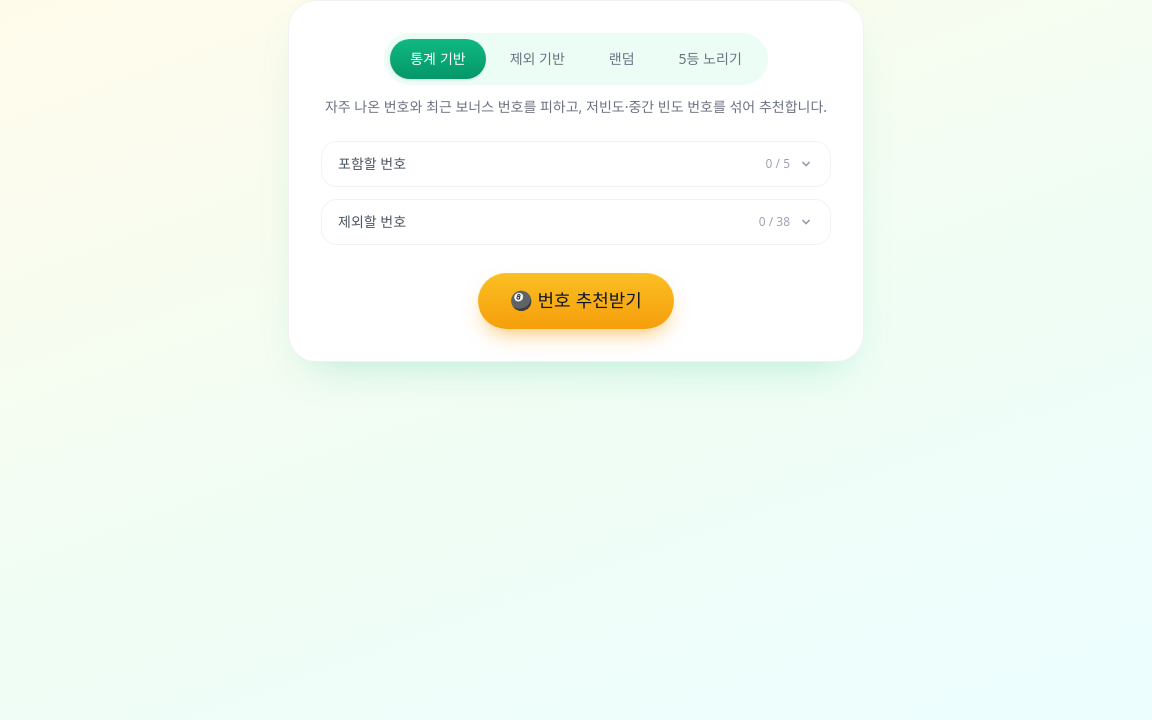
RecommenderClient › pickers are collapsed by default and expand on click
This screenshot has width=1152, height=720.
Expected: the button "7" is not shown
expand via the section header
Click the button "포함할 번호 0 / 5": (372, 164) [322, 142, 830, 186]
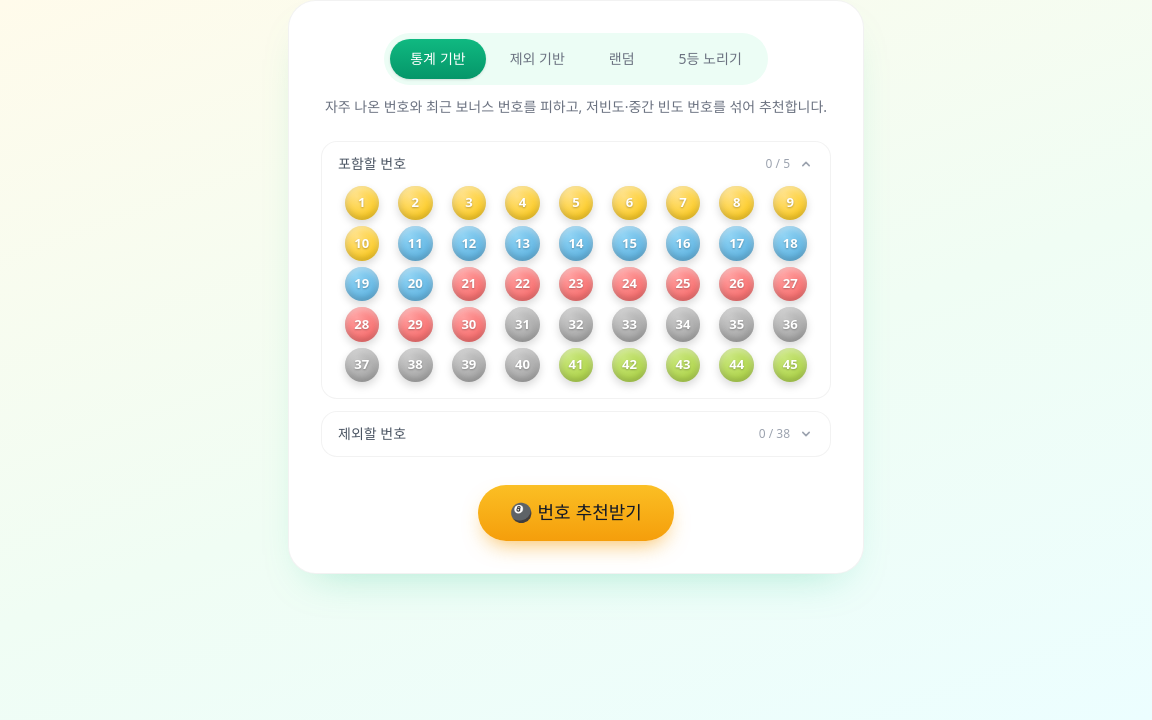
Now the button "7" is shown, box [666, 186, 700, 220]
